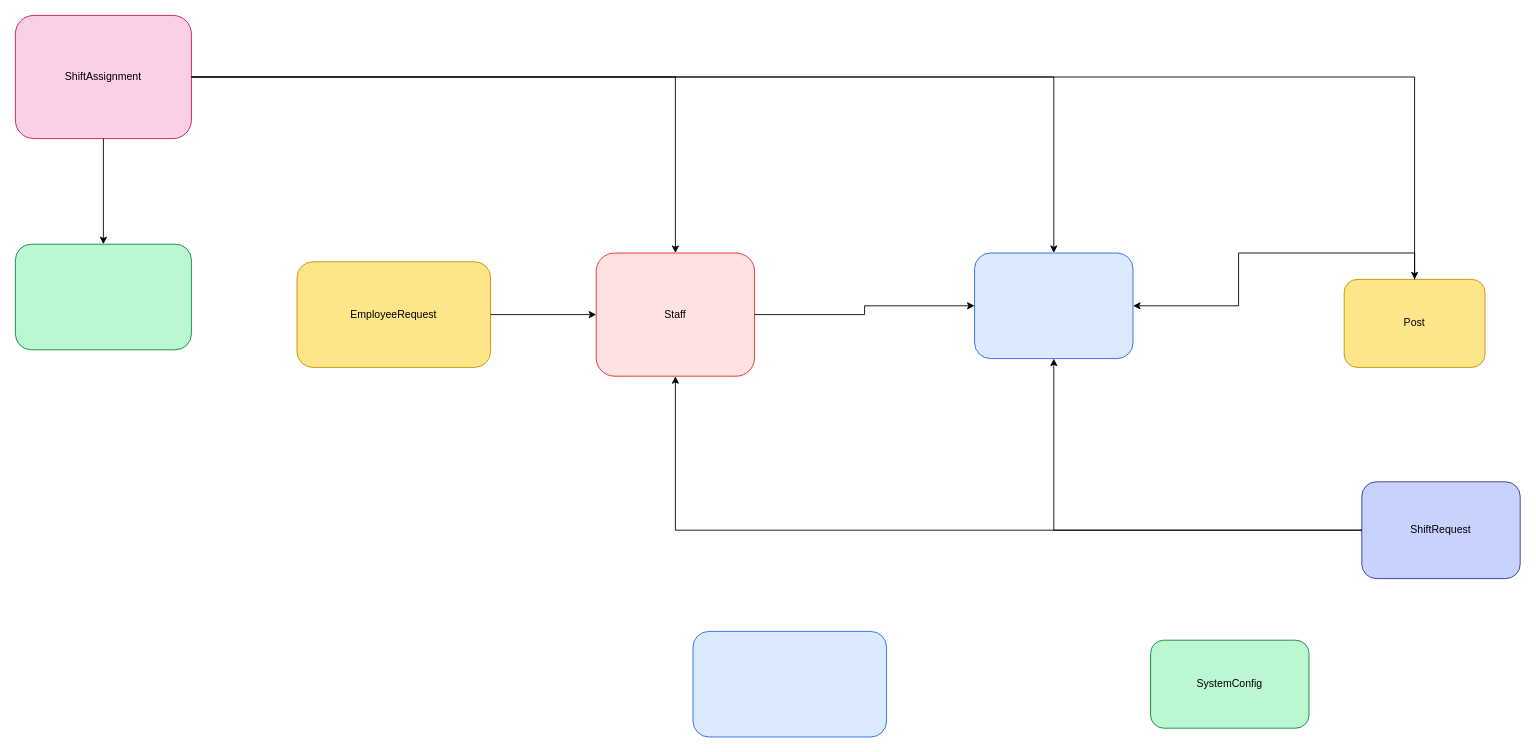
This 1536x752 diagram has some shape labels left out. Each missing label, with the centre of its shape:
Facility: point (1053, 305)
ShiftTemplate: point (103, 296)
StaffingRequirement: point (789, 684)
